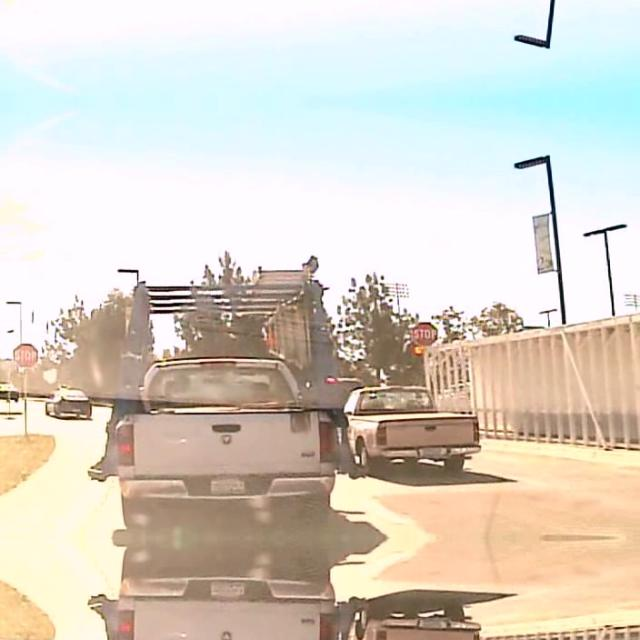stop: (12, 342, 38, 366), (412, 320, 436, 344)
